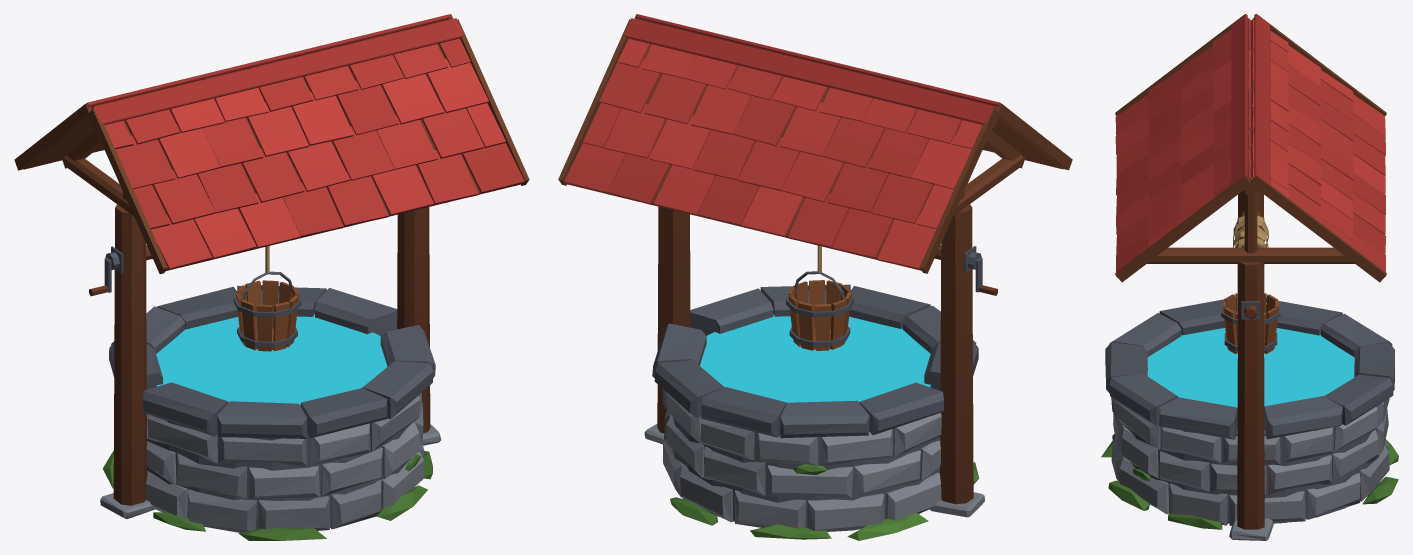
Rendered from well.fbx.
The picture shows the model from 3 angles, left to right: view 1: azimuth 30°, elevation 25°; view 2: azimuth 150°, elevation 25°; view 3: azimuth 270°, elevation 25°; orthographic projection. The views are drawn at different scales.
Visible parts, largest first — view 1: well_Roof, well_Stones, well_Timber, well_RimStones, well_Water, well_Bucket, well_Mortar, well_Moss, well_Iron; view 2: well_Roof, well_Stones, well_Timber, well_RimStones, well_Water, well_Bucket, well_Mortar, well_Moss, well_Iron; view 3: well_Roof, well_Stones, well_RimStones, well_Timber, well_Water, well_Mortar, well_Moss, well_Bucket, well_Iron, well_Rope.
Part boxes in pixels (x1,y1,x2,y2): well_Roof: (87,14,524,269); well_Stones: (100,392,441,532); well_Timber: (14,14,529,505); well_RimStones: (109,285,435,438); well_Water: (156,314,387,405); well_Bucket: (235,280,299,351); well_Mortar: (147,421,410,531); well_Moss: (102,450,432,540); well_Iron: (104,246,301,347); well_Roof: (564,14,1000,269); well_Stones: (644,388,984,531); well_Timber: (558,14,1072,504); well_RimStones: (652,284,978,438); well_Water: (700,314,930,402); well_Bucket: (788,280,851,350); well_Mortar: (672,417,940,531); well_Moss: (670,462,979,540); well_Iron: (786,246,982,346); well_Roof: (1115,14,1386,272); well_Stones: (1111,398,1389,540); well_RimStones: (1105,299,1394,439); well_Timber: (1115,14,1386,529); well_Water: (1147,328,1354,407); well_Mortar: (1122,423,1379,523); well_Moss: (1101,439,1398,529); well_Bucket: (1223,293,1278,353); well_Iron: (1221,298,1280,350); well_Rope: (1233,215,1268,264).
Bounding box in the file's own units: 12.29 × 13.25 × 9.52.
